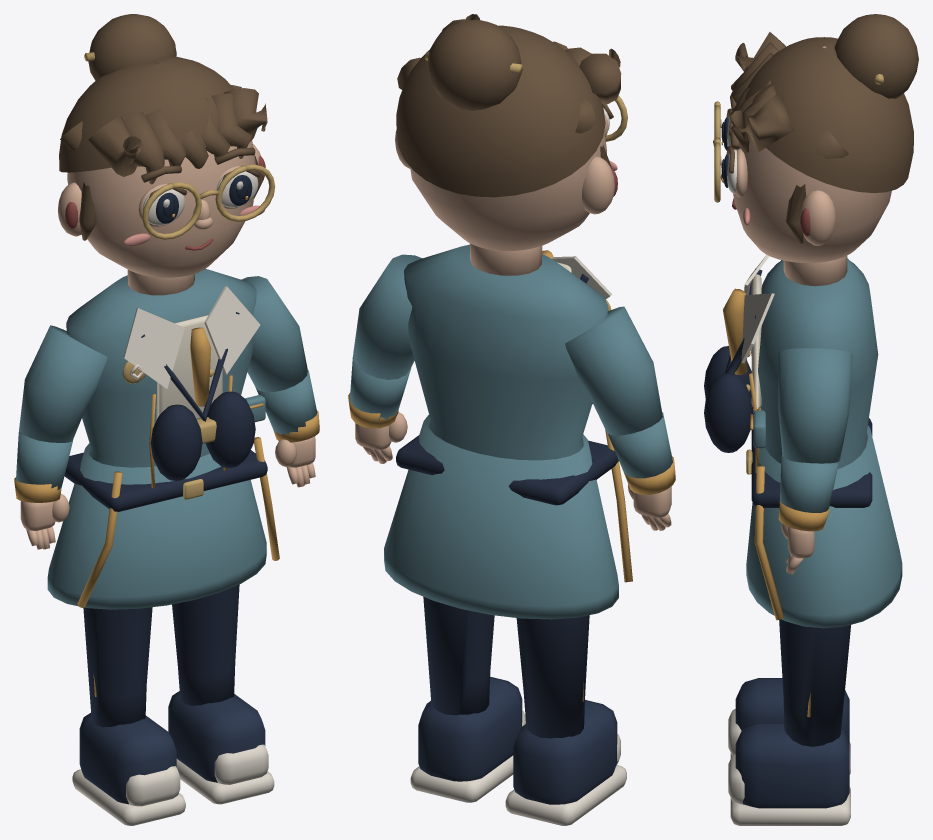
Rendered from npc_valley_trainer_lake_path.glb.
3 renders of one model, left to right at view 1: azimuth 30°, elevation 25°; view 2: azimuth 150°, elevation 25°; view 3: azimuth 270°, elevation 25°, orthographic. The views are drawn at different scales.
Visible parts, largest first — view 1: figure.016; view 2: figure.016; view 3: figure.016.
Part boxes in pixels (x1,y1,x2,y2): figure.016: [14, 14, 319, 825]; figure.016: [348, 14, 675, 825]; figure.016: [704, 14, 918, 825].
Size of the model in its own units: 0.6633 by 1.58 by 0.3982.
